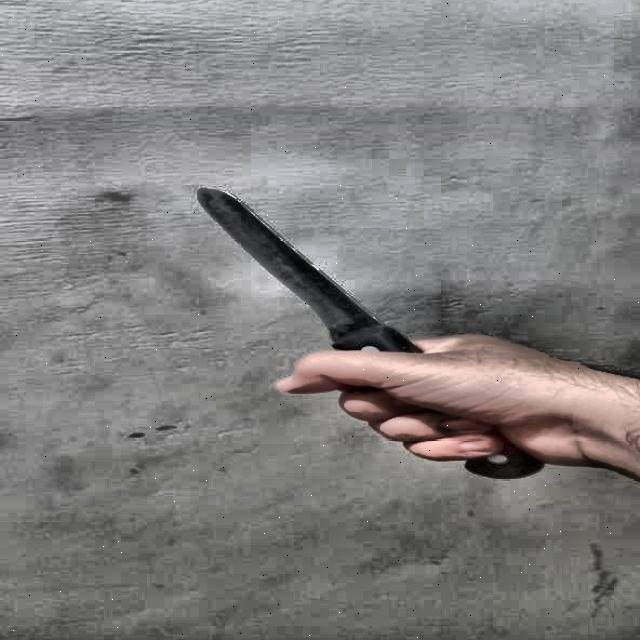knife: (199, 189, 544, 480)
